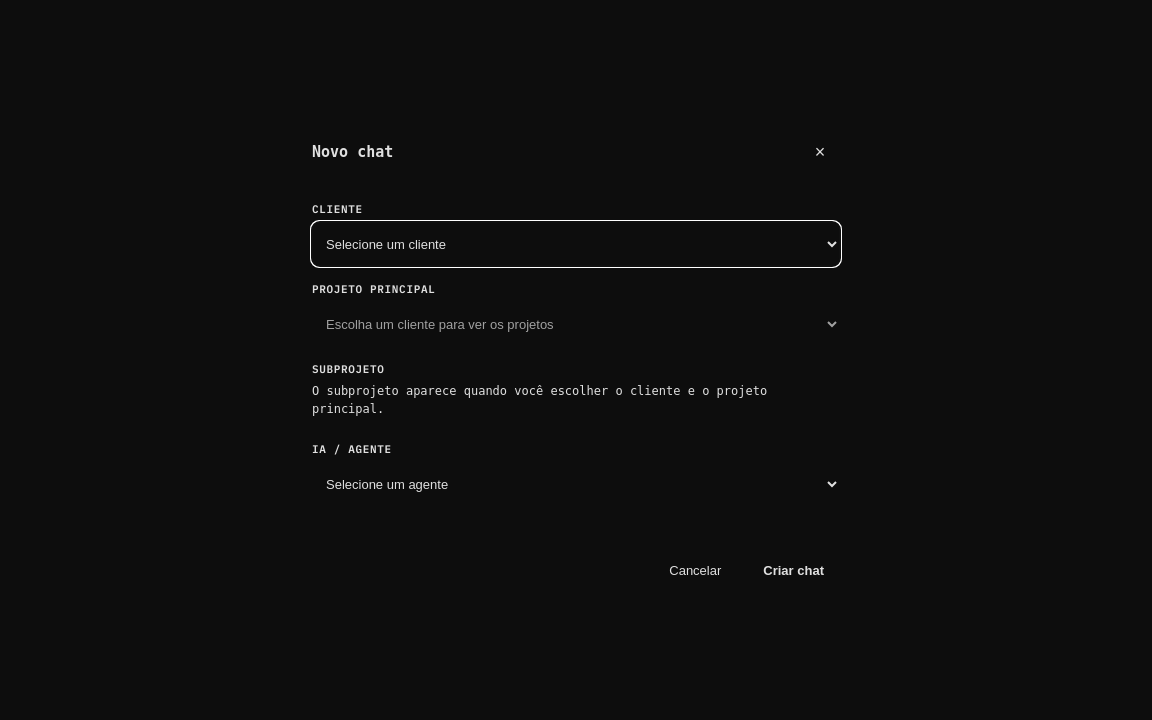
Test: NewChatSheet — presentation="modal": which element receives initial focus › "Todos" mode: falling into state A at runtime announces it, but does NOT move focus to the retry button
Select "Pode Subir" in the dropdown named "Cliente" at (576, 244), box 312,222 -> 840,266
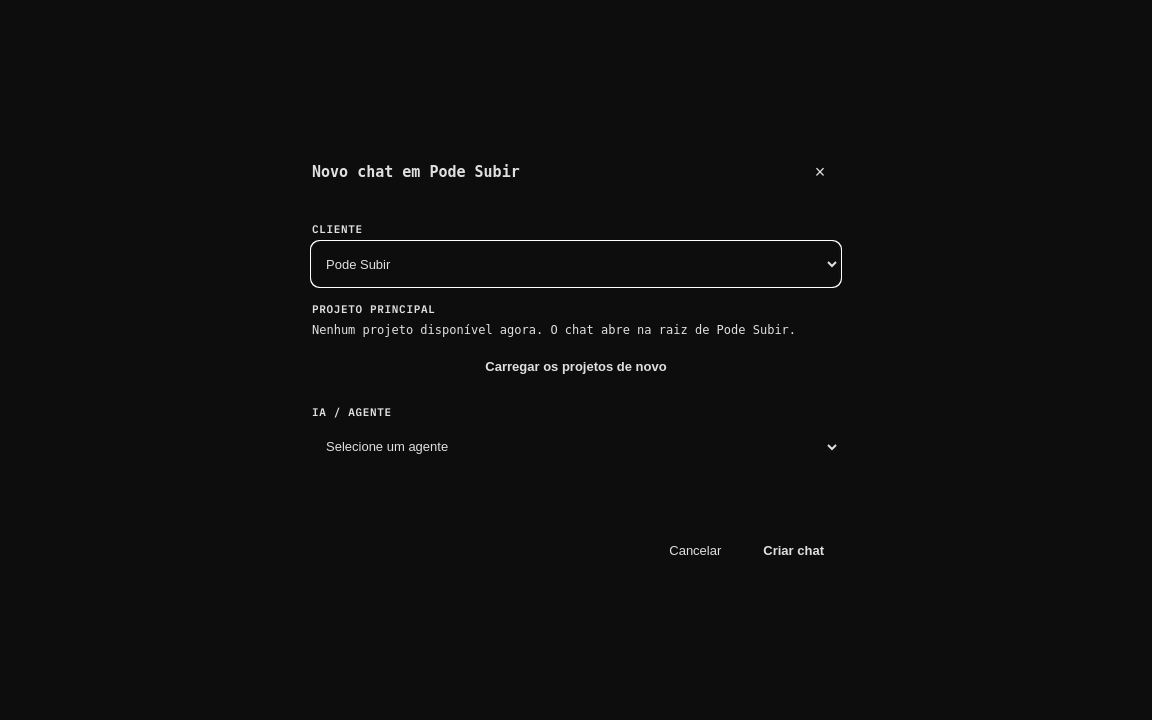
Check: the button "Carregar os projetos de novo" is shown, box 312,345 -> 840,389
